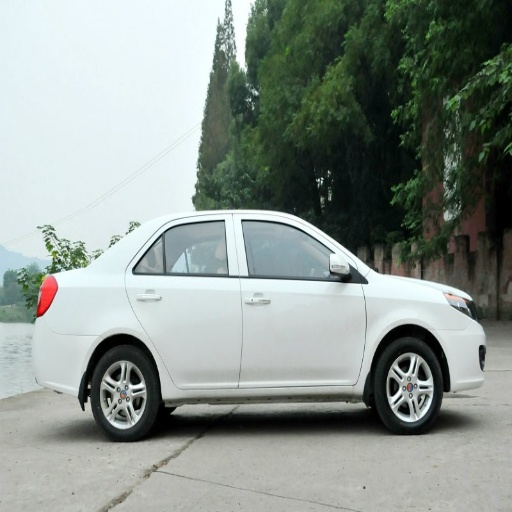back_right_door: (127, 213, 242, 391)
front_right_door: (236, 214, 366, 386)
